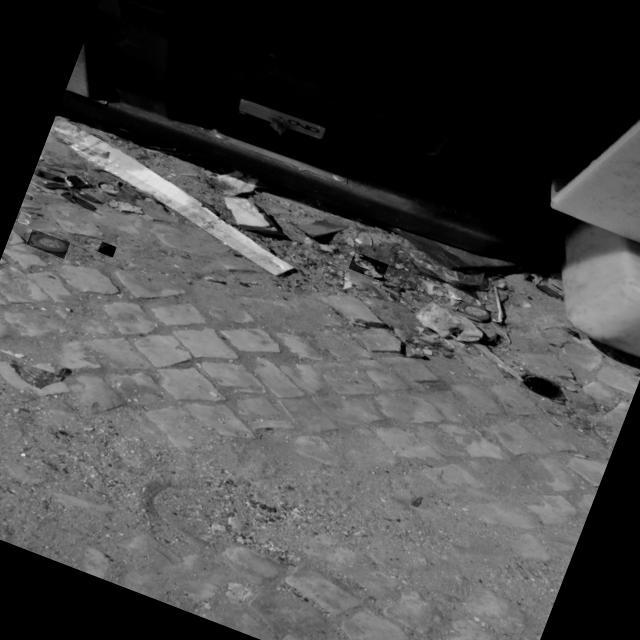Bottle cap: (17, 212, 29, 222)
Broken glass: (98, 246, 114, 256)
Lid: (29, 234, 68, 255), (523, 375, 558, 397), (457, 303, 488, 321)
Other Carton: (66, 121, 293, 275)
Other plastic: (353, 252, 383, 278)
Plastic film: (396, 234, 486, 287)
Unlabeled litter: (96, 182, 116, 196)
